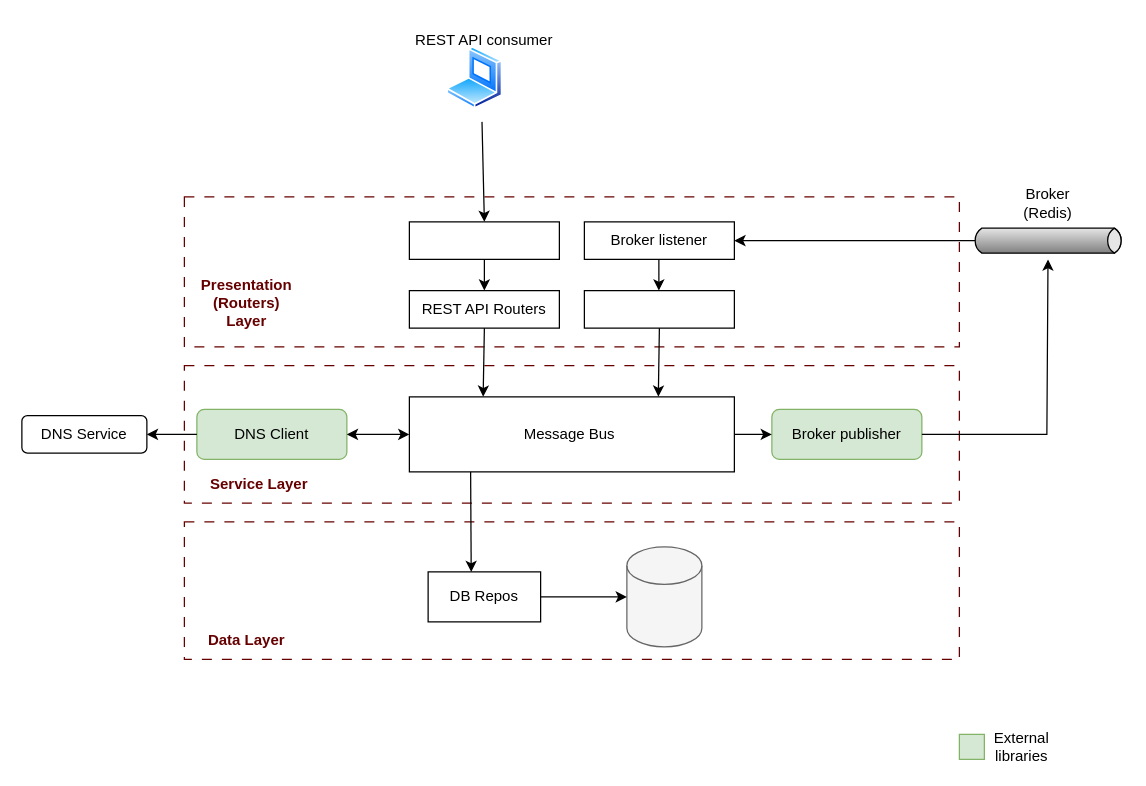
Image size: 1146x786. Some labels were removed from this diagram. Each missing label, with the box of its shape:
Broker routers: (583, 289, 734, 328)
FastAPI: (408, 221, 559, 259)
TinyDB: (626, 546, 702, 647)
